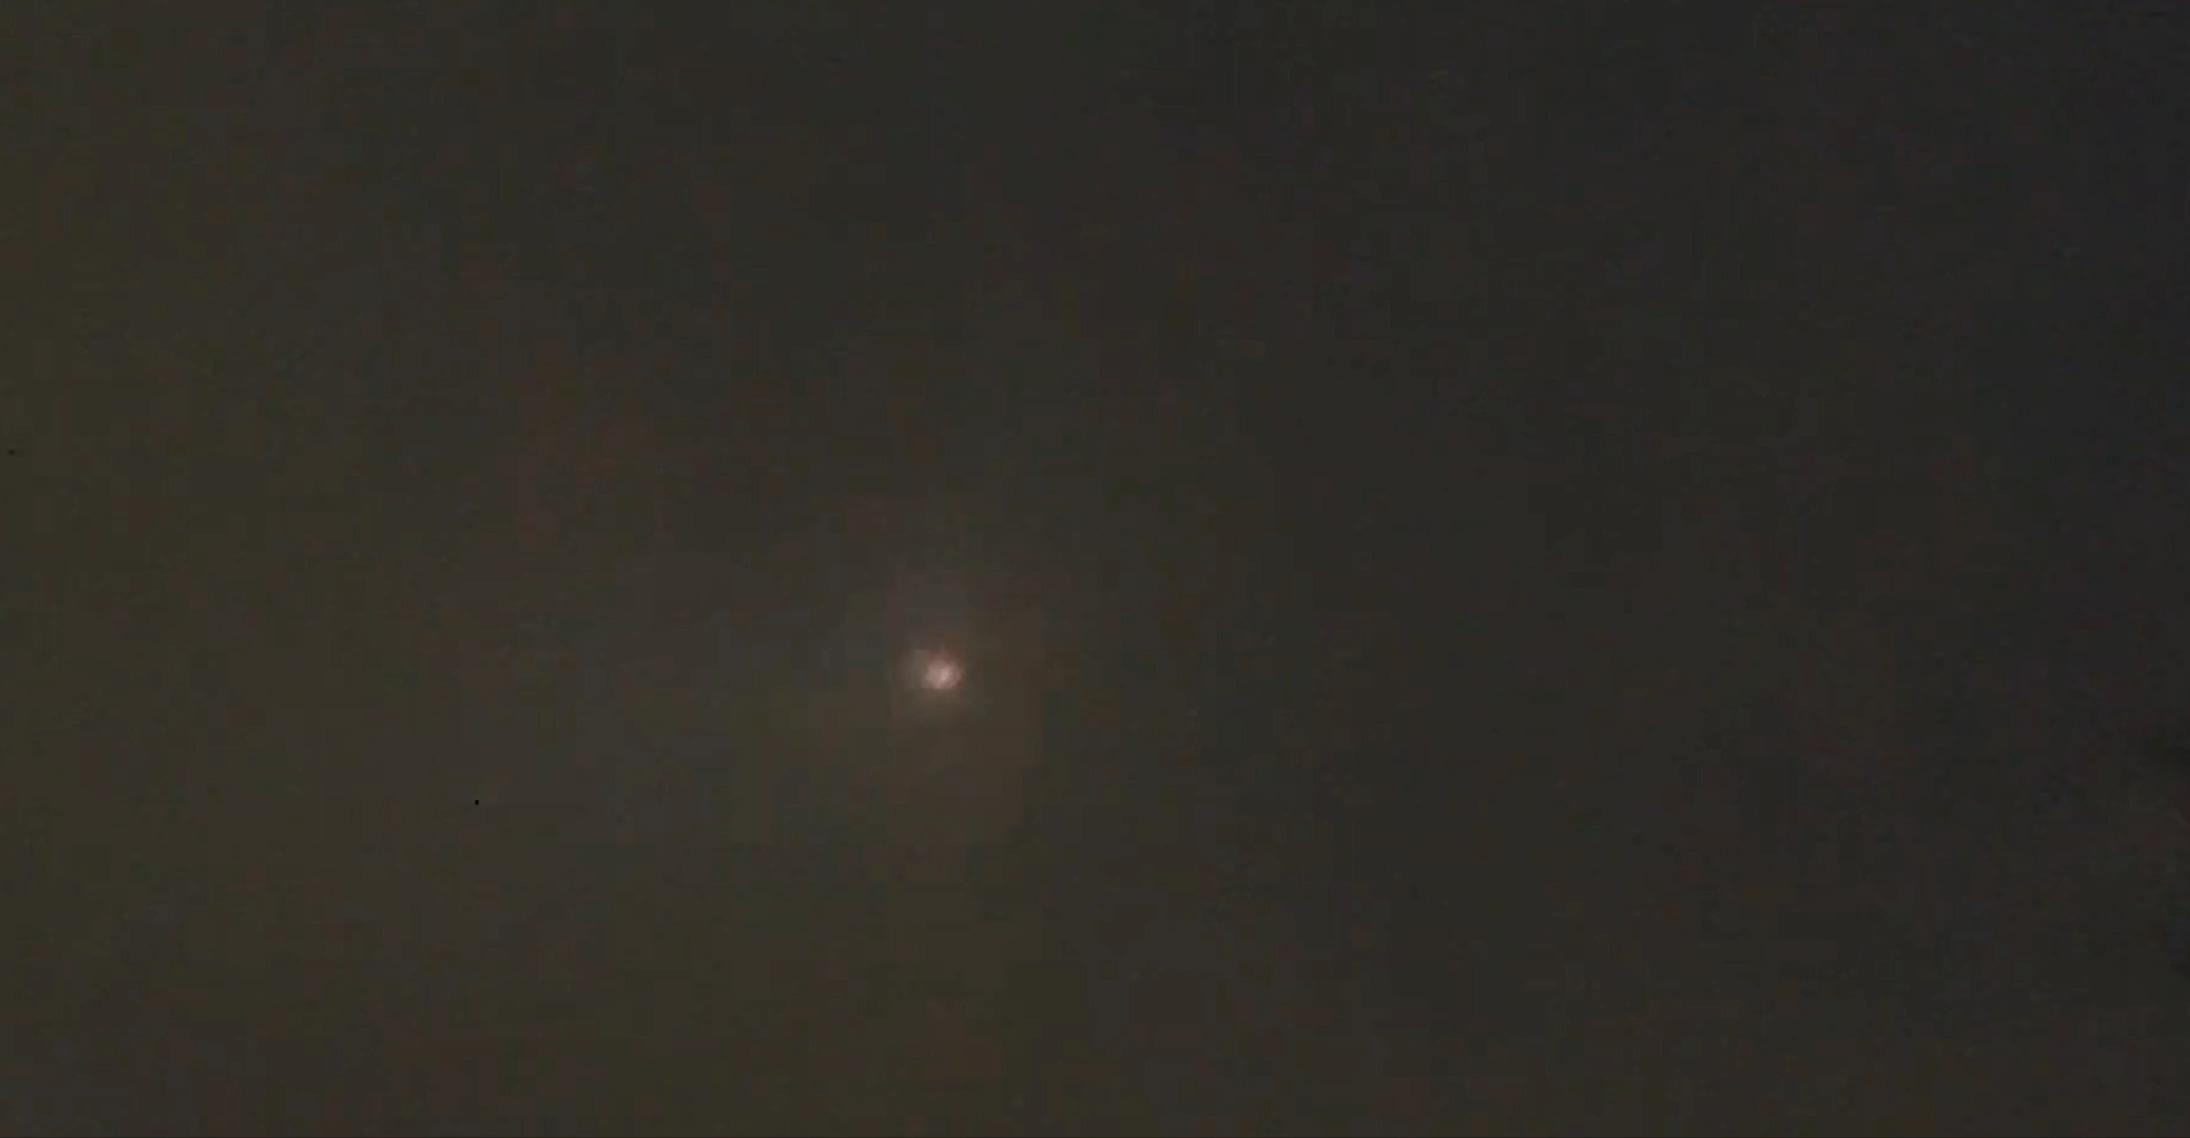Plane: (886, 566, 1002, 744)
